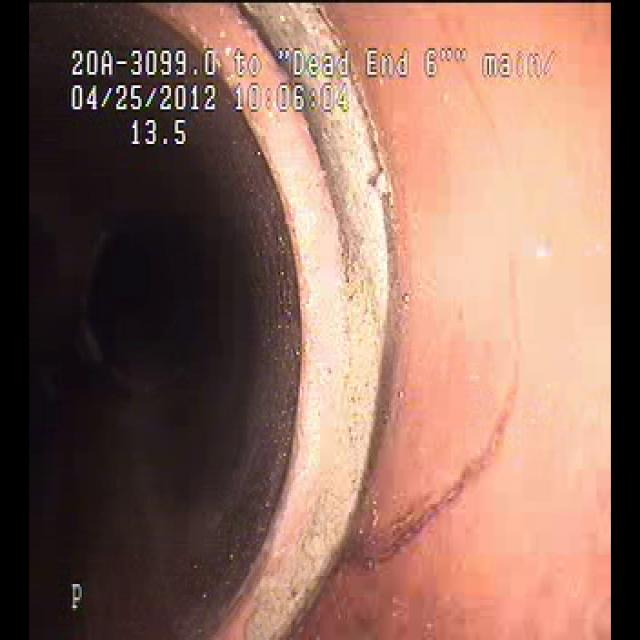Crack: (382, 172, 558, 579)
